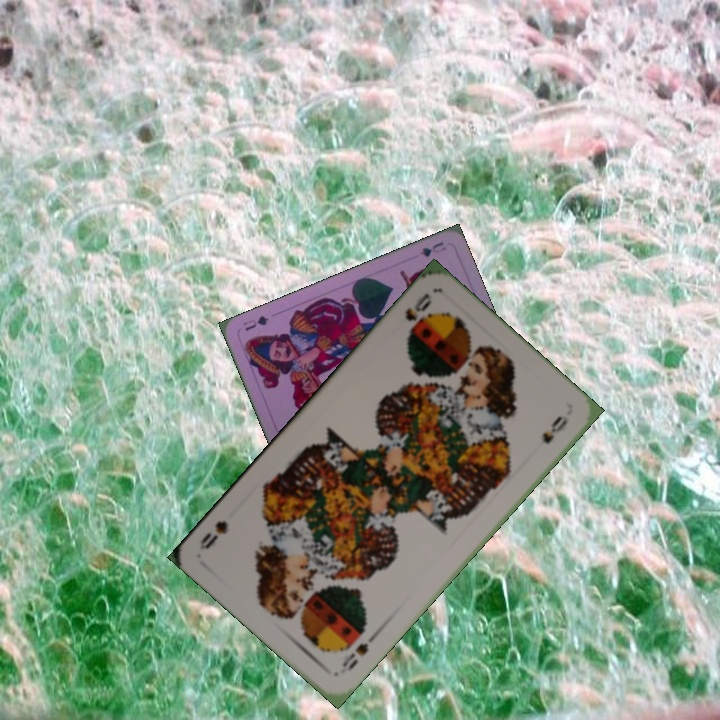GU: (416, 238, 448, 260)
SO: (335, 629, 380, 677), (400, 289, 435, 335)
